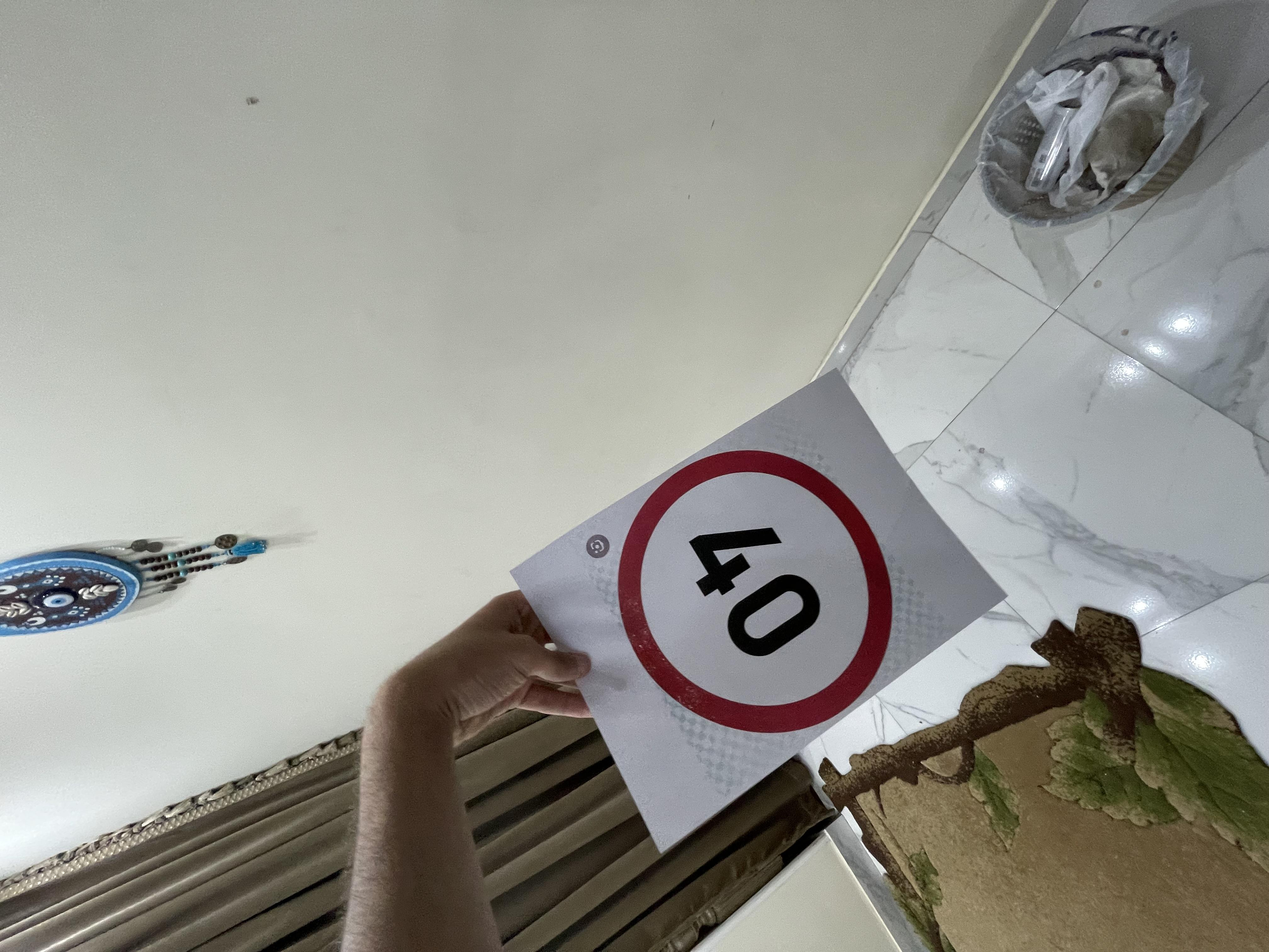40-Speed: (295, 468, 684, 653)
